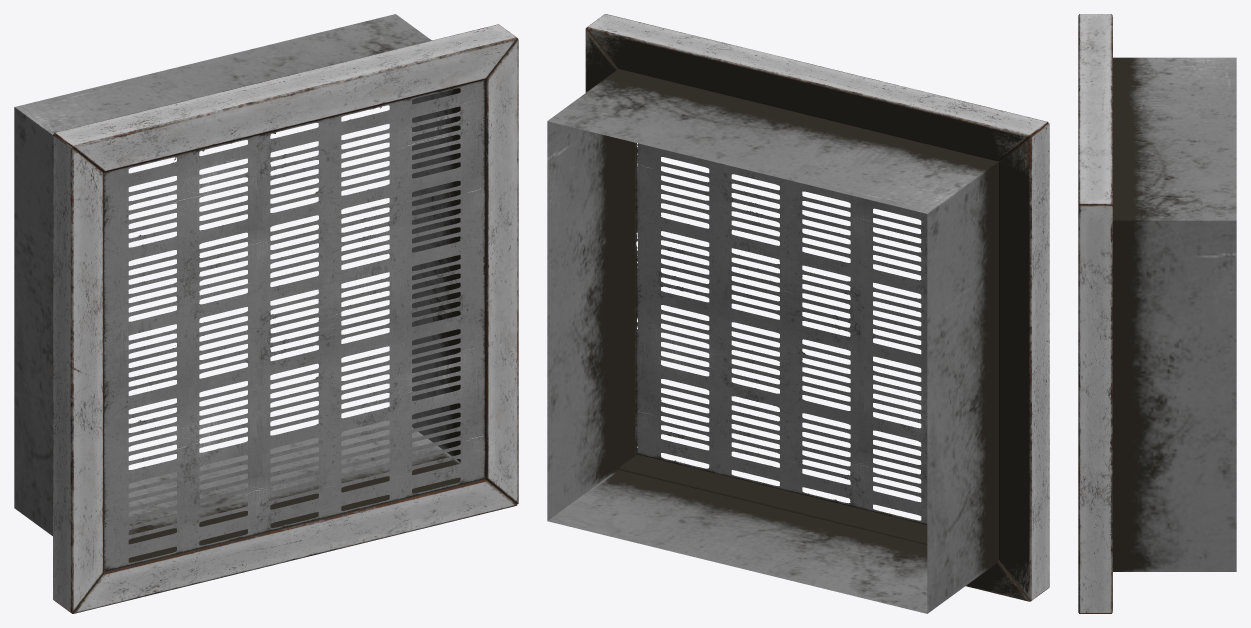
Rendered from ventilation_valve_ceiling_wall_-_5mb.glb.
3 renders of one model, left to right at view 1: azimuth 30°, elevation 25°; view 2: azimuth 150°, elevation 25°; view 3: azimuth 270°, elevation 25°, orthographic. The views are drawn at different scales.
Parts seen in each view (by area): view 1: Cube, Cube_3, Cube_1, Cube_4, Cube_2; view 2: Cube, Cube_3, Cube_1, Cube_4, Cube_2; view 3: Cube, Cube_2, Cube_1.
Part boxes in pixels (box(x1,y1,x2,y2)): Cube: box(14, 14, 485, 571); Cube_3: box(53, 134, 103, 612); Cube_1: box(54, 24, 517, 172); Cube_4: box(71, 477, 516, 613); Cube_2: box(485, 38, 518, 504); Cube: box(547, 69, 999, 613); Cube_3: box(999, 123, 1049, 600); Cube_1: box(587, 14, 1048, 161); Cube_4: box(618, 454, 1031, 601); Cube_2: box(585, 27, 618, 92); Cube: box(1113, 57, 1236, 571); Cube_2: box(1078, 205, 1112, 613); Cube_1: box(1078, 14, 1112, 207).
Size of the model in its own units: 2 by 2 by 0.7005.
Materials: 1 (1 with a texture image).
